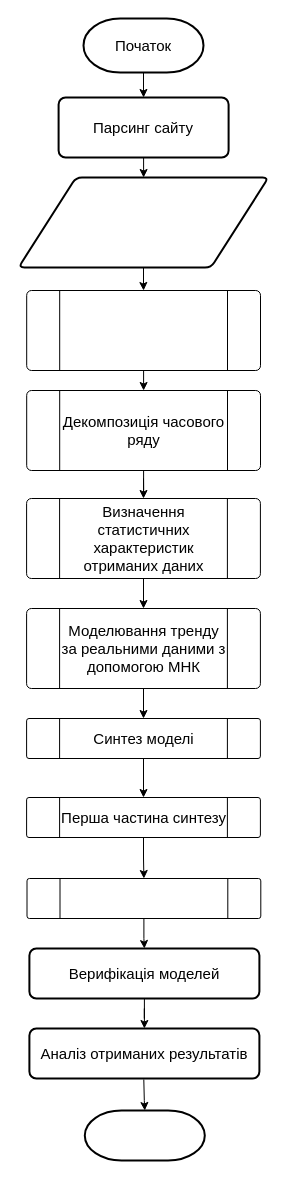
Image size: 286x1178. Some labels were removed from this diagram. Each missing label, with the centre of its shape:
"Візуалізація реальних даних, їх тренду, емпіричного розподілу частот" goes at point (143, 330).
"Друга частина синтезу" goes at point (143, 898).
"Збереження результатів парсингу у файлі" goes at point (143, 222).
"Кінець" goes at point (144, 1135).
